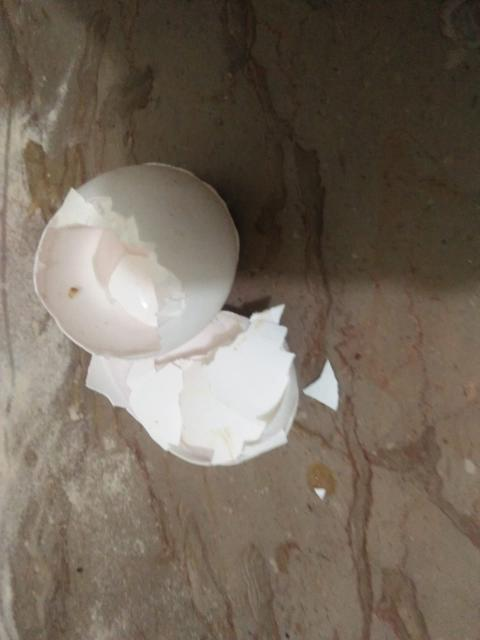Roto: (32, 160, 241, 348), (84, 307, 302, 469)
